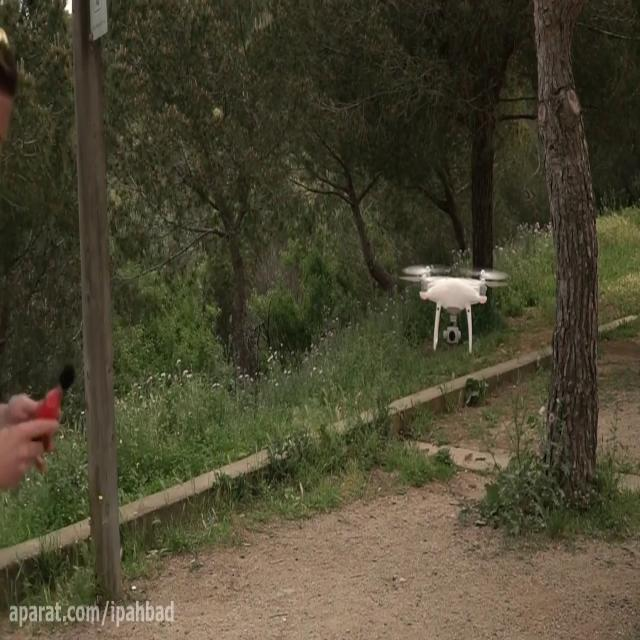drone: (397, 258, 510, 352)
